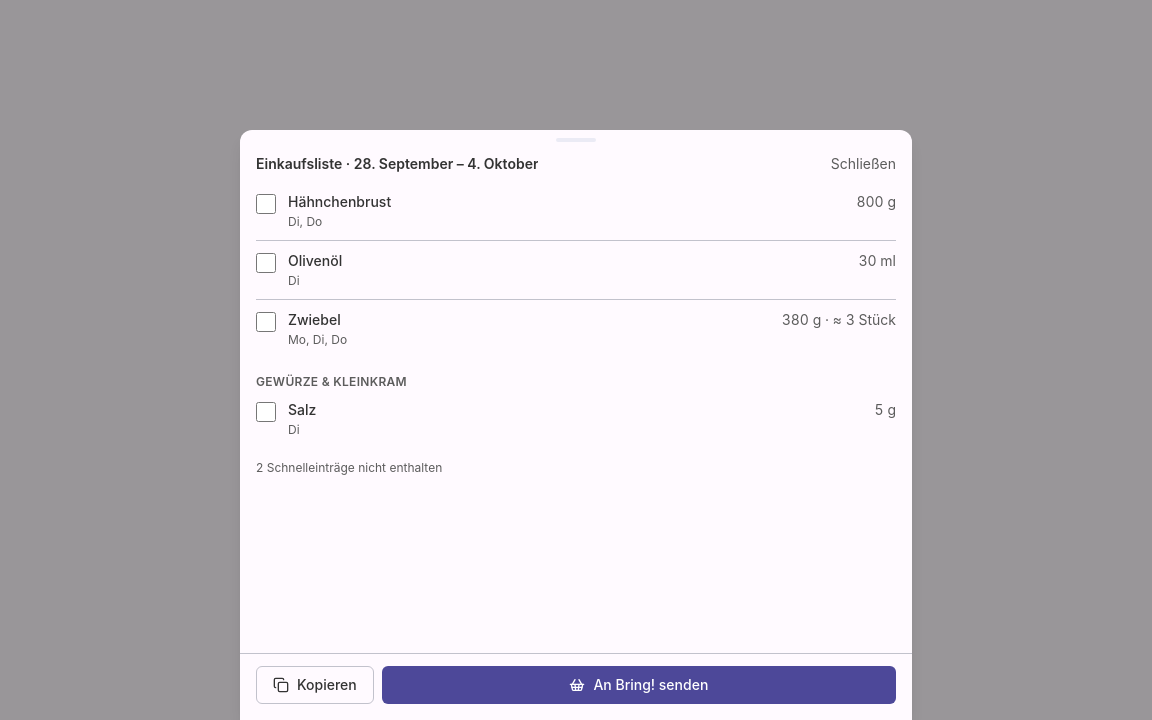
GroceryListSheet › copies only the items not ticked off as already at home, one per line, and confirms
The image size is (1152, 720).
Click the checkbox named "Olivenöl schon da" at (266,263), box [256,253,276,273]
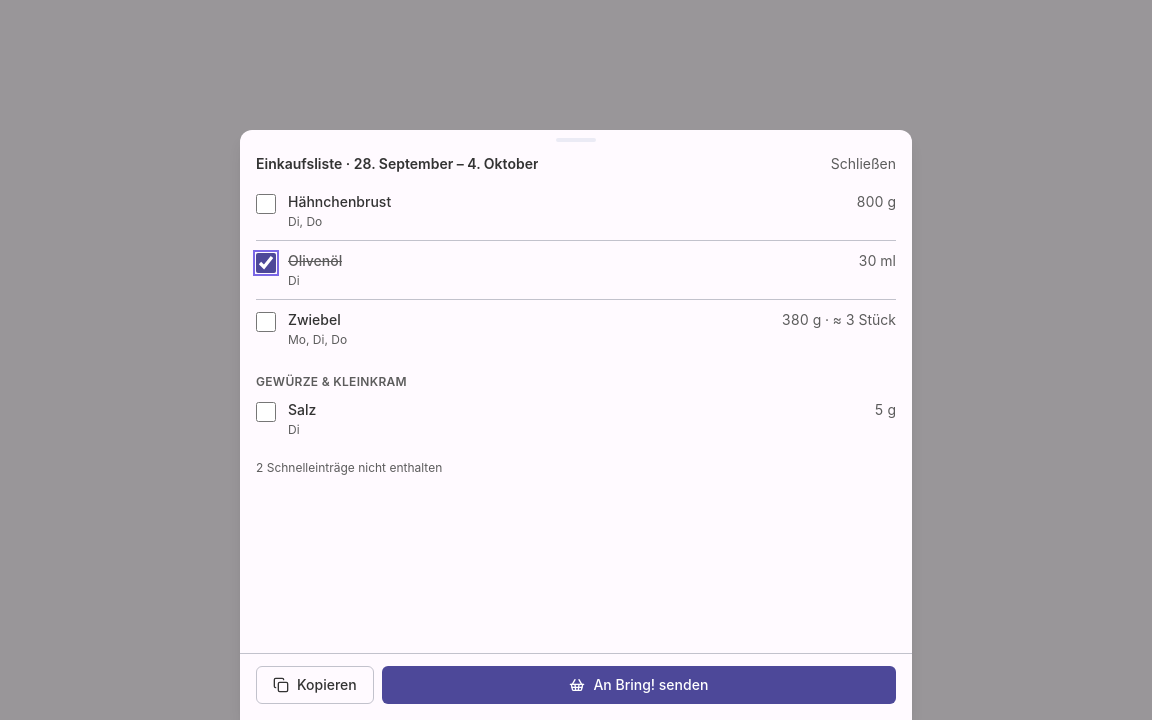
Click the button "Kopieren" at (315,685), box [256,666,374,704]
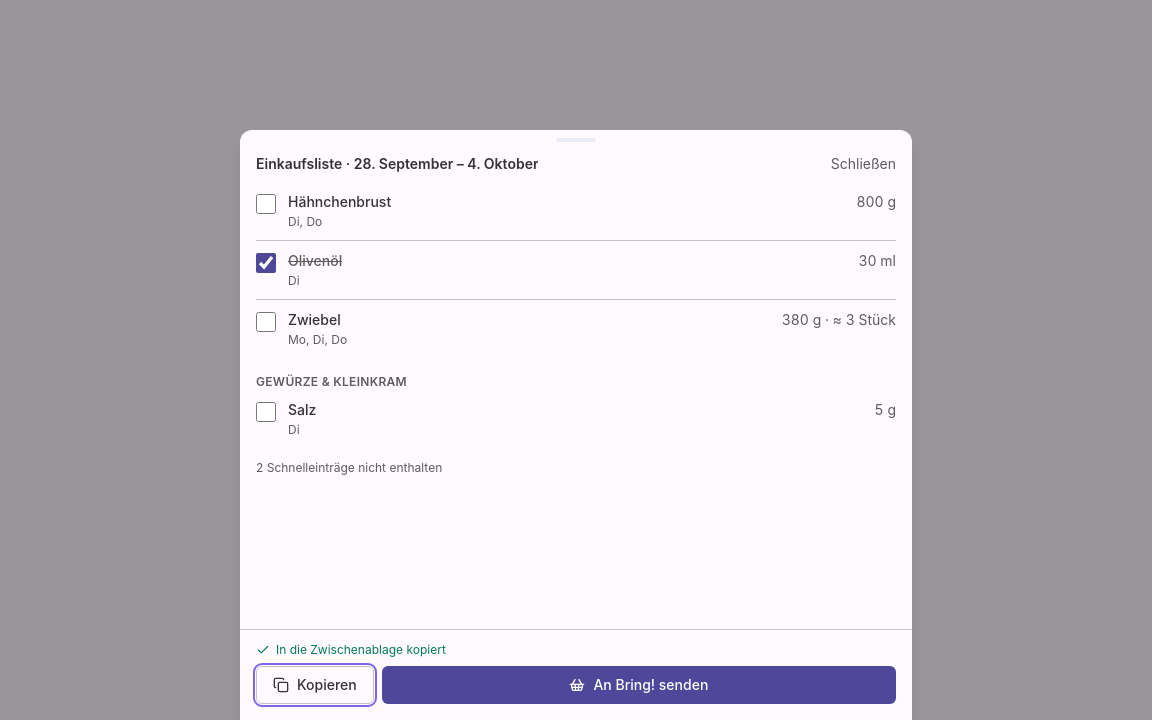
Expected: the text "In die Zwischenablage kopiert" is shown, [256,642,446,657]
